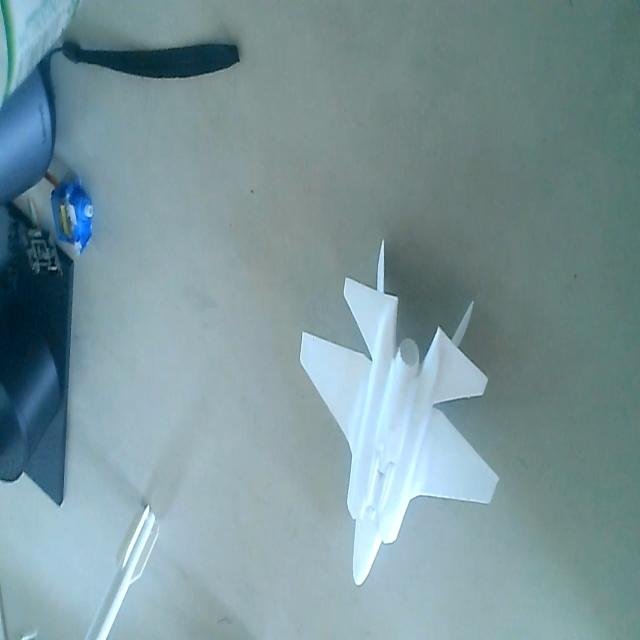Jet: (295, 233, 503, 603)
Rocket: (81, 490, 165, 640)
